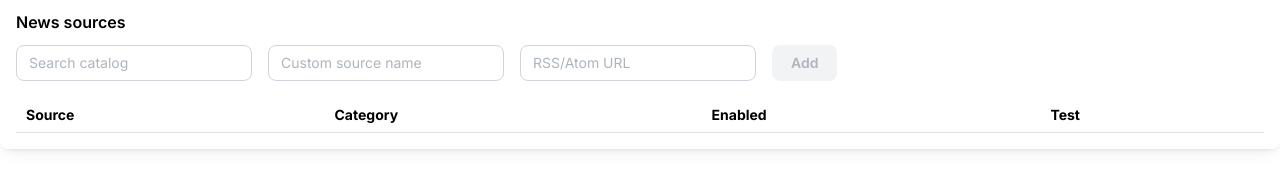
Test case: source manager › keeps the add control disabled until both a name and a URL are supplied
The width and height of the screenshot is (1280, 169).
Expected: the button "Add" is disabled, [772,45,838,81]
Type "Daily" into the field with placeholder "Custom source name" at x=386, y=63, box [268,45,504,81]
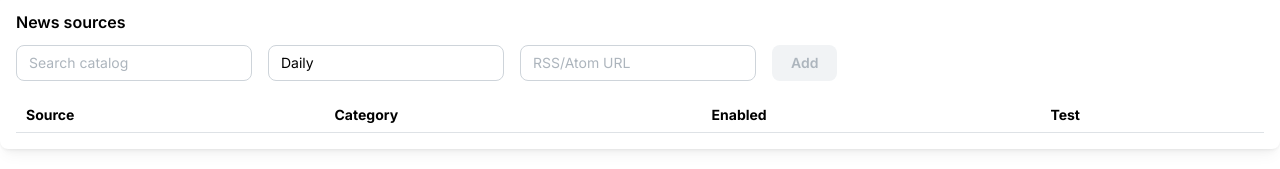
Expected: the button "Add" is disabled, [772,45,838,81]
Type "https://daily.example/rss" into the field with placeholder "RSS/Atom URL" at x=638, y=63, box [520,45,756,81]
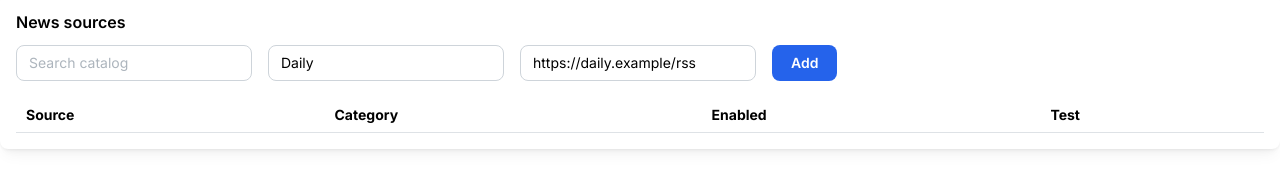
Expected: the button "Add" is enabled, [772,45,838,81]
